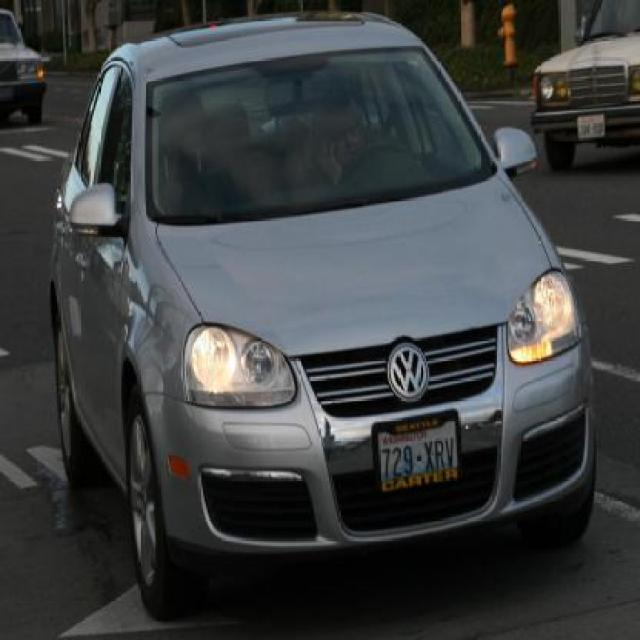License-Plates: (372, 410, 464, 498)
